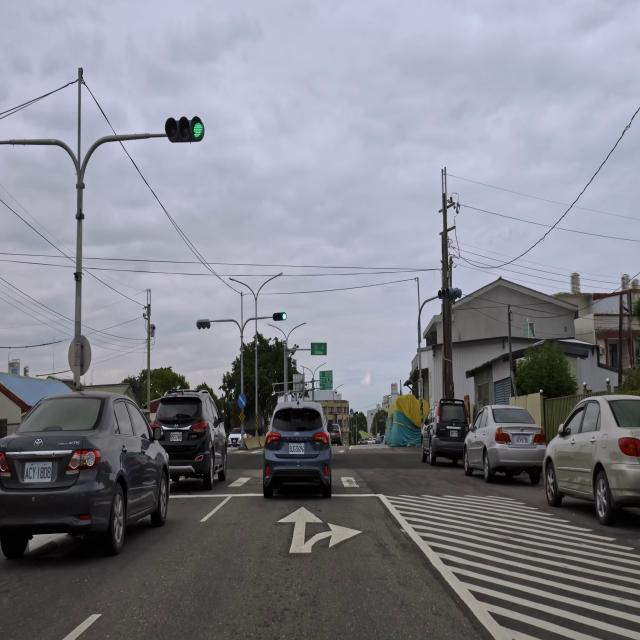green light: (164, 118, 206, 142), (272, 312, 287, 321)
